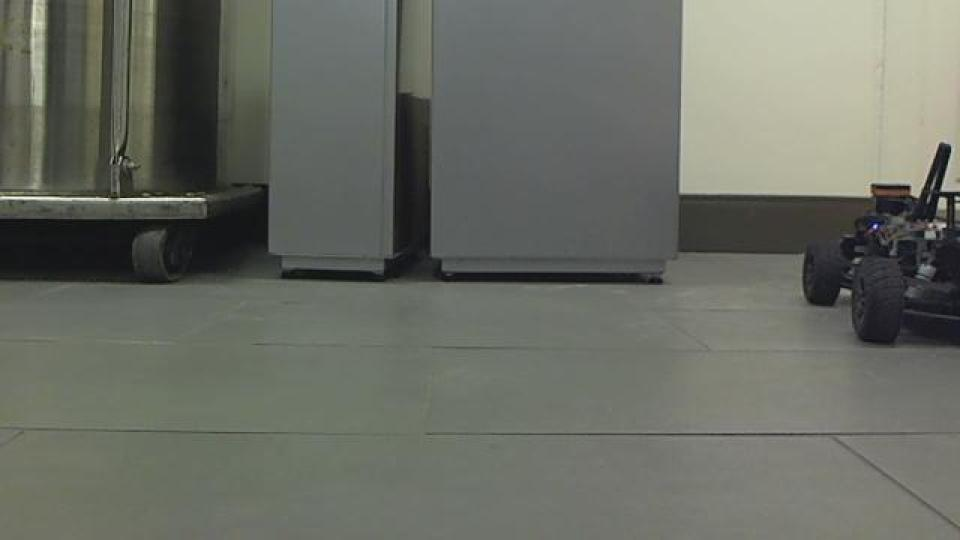car: (798, 139, 957, 346)
